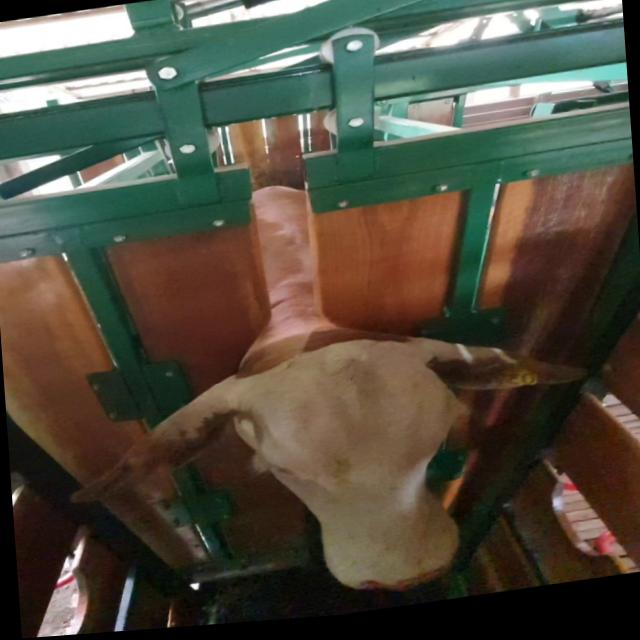cowFace: (252, 333, 471, 610)
